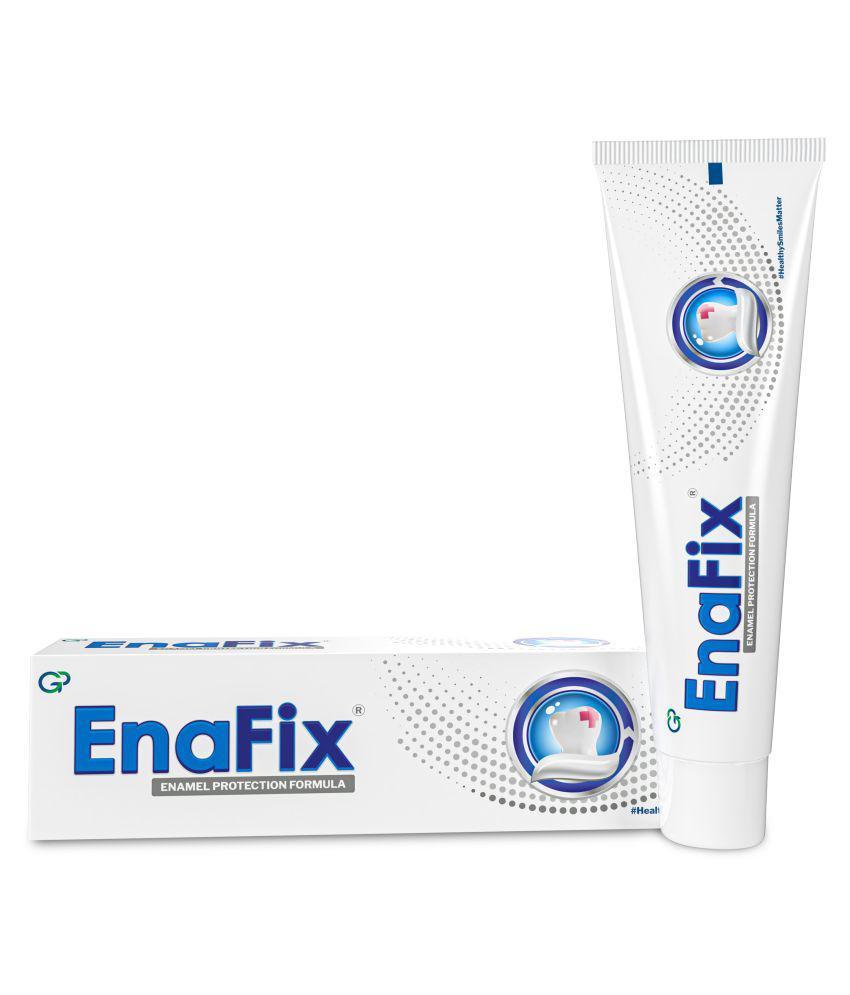toothpaste: (582, 114, 814, 856), (11, 621, 675, 852)
